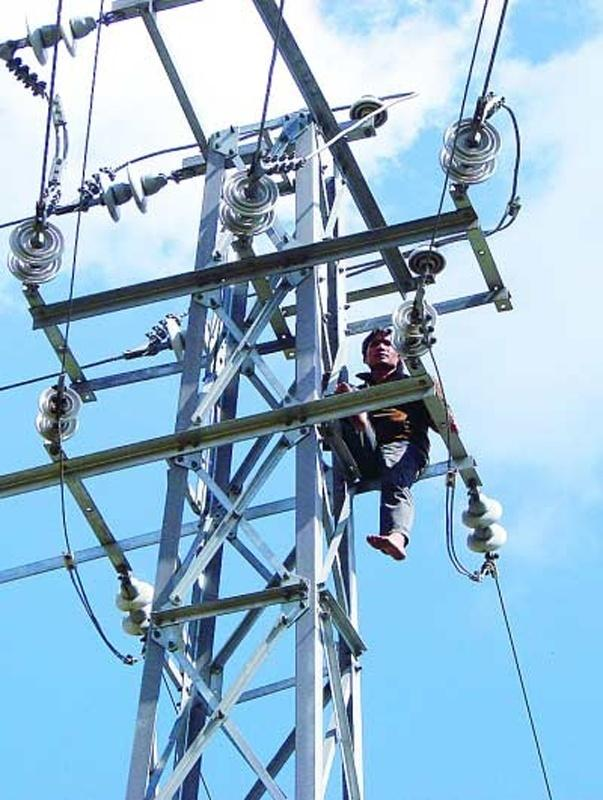power_tower: (27, 48, 517, 797)
